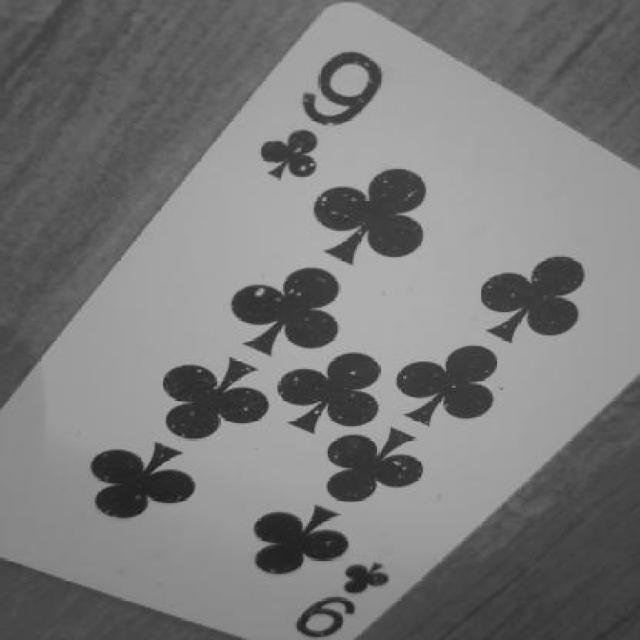9C: (252, 40, 402, 185), (275, 551, 434, 640)
